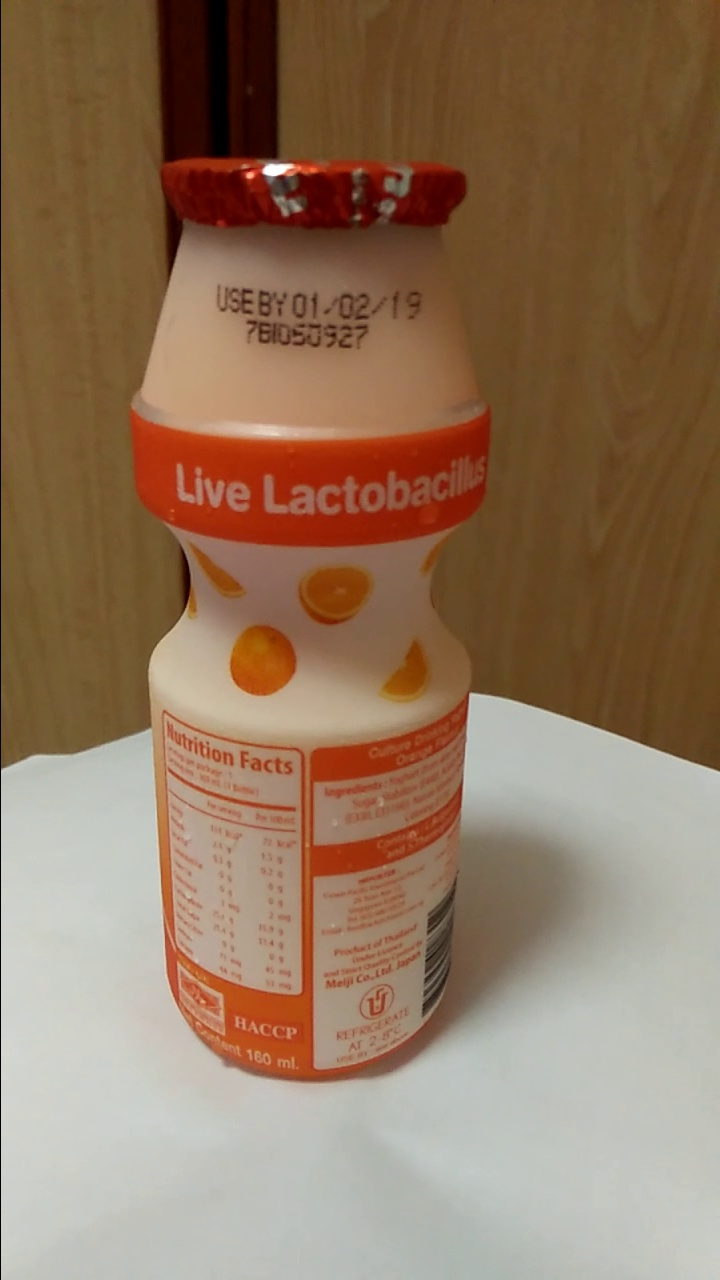milk: (160, 157, 450, 1080)
